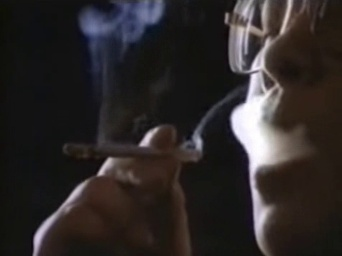smoke: (62, 138, 199, 165)
